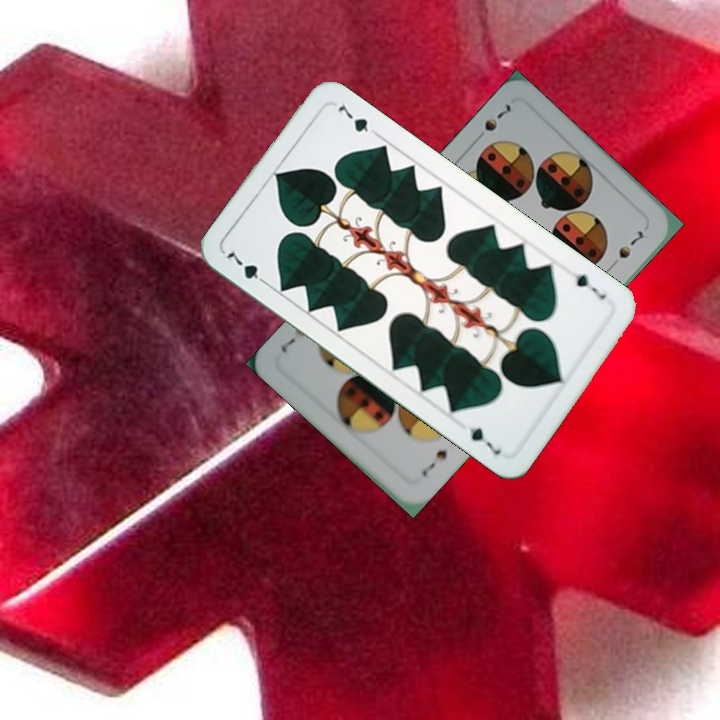G7: (222, 244, 272, 289), (571, 270, 609, 303)
S7: (470, 99, 514, 145), (417, 445, 450, 480)
